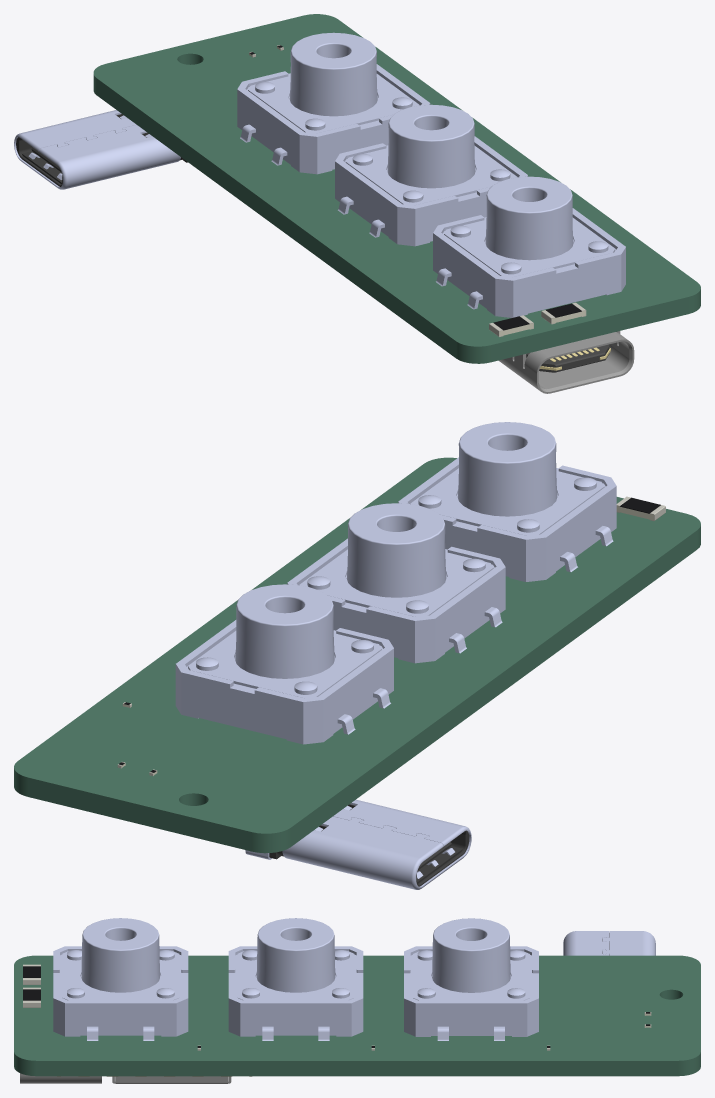
Rendered from OASIS.glb.
3 views of the same model, one above another, from view 1: azimuth 30°, elevation 25°; view 2: azimuth 150°, elevation 25°; view 3: azimuth 270°, elevation 25° (orthographic). The views are drawn at different scales.
Parts seen in each view (by area): view 1: =>[0:1:1:7], SW3, SW1, SW2, NAUO1, CHAMFER9:1, MIRROR2:1, R7, R8; view 2: =>[0:1:1:7], SW1, SW2, SW3, NAUO1, R8; view 3: =>[0:1:1:7], SW2, SW3, SW1, NAUO1, Shield:1, CHAMFER9:1, R8, R7.
Part boxes in pixels (<box>): =>[0:1:1:7]: <box>93,14,700,363</box>; SW3: <box>433,176,625,317</box>; SW1: <box>237,32,430,174</box>; SW2: <box>335,104,527,246</box>; NAUO1: <box>14,110,187,189</box>; CHAMFER9:1: <box>498,331,634,393</box>; MIRROR2:1: <box>526,345,610,372</box>; R7: <box>541,302,586,324</box>; R8: <box>489,315,533,336</box>; =>[0:1:1:7]: <box>14,457,700,853</box>; SW1: <box>175,584,393,744</box>; SW2: <box>287,503,505,663</box>; SW3: <box>398,422,616,581</box>; NAUO1: <box>245,799,471,889</box>; R8: <box>616,496,665,521</box>; =>[0:1:1:7]: <box>14,955,700,1076</box>; SW2: <box>228,918,363,1040</box>; SW3: <box>53,918,188,1040</box>; SW1: <box>404,918,538,1040</box>; NAUO1: <box>563,931,655,955</box>; Shield:1: <box>112,1076,231,1083</box>; CHAMFER9:1: <box>20,1073,101,1083</box>; R8: <box>23,964,40,984</box>; R7: <box>23,987,40,1007</box>.
Size of the model in its own units: 0.031 by 0.0131 by 0.0612.
